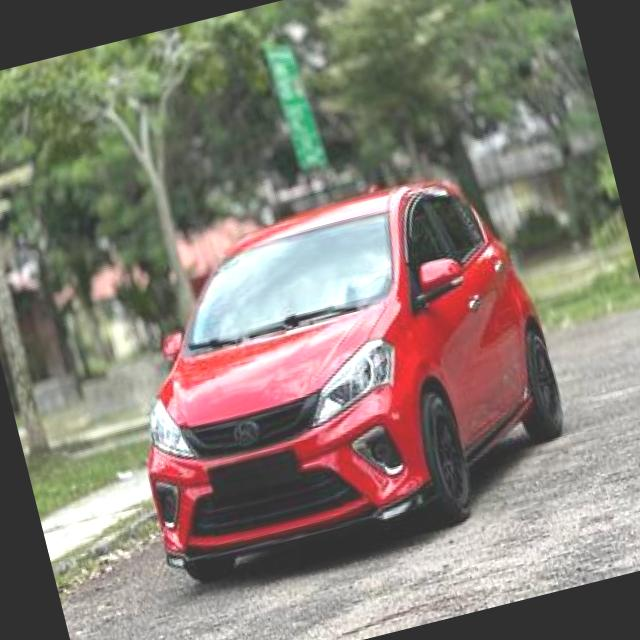PeroduaMyvi: (88, 152, 588, 594)
